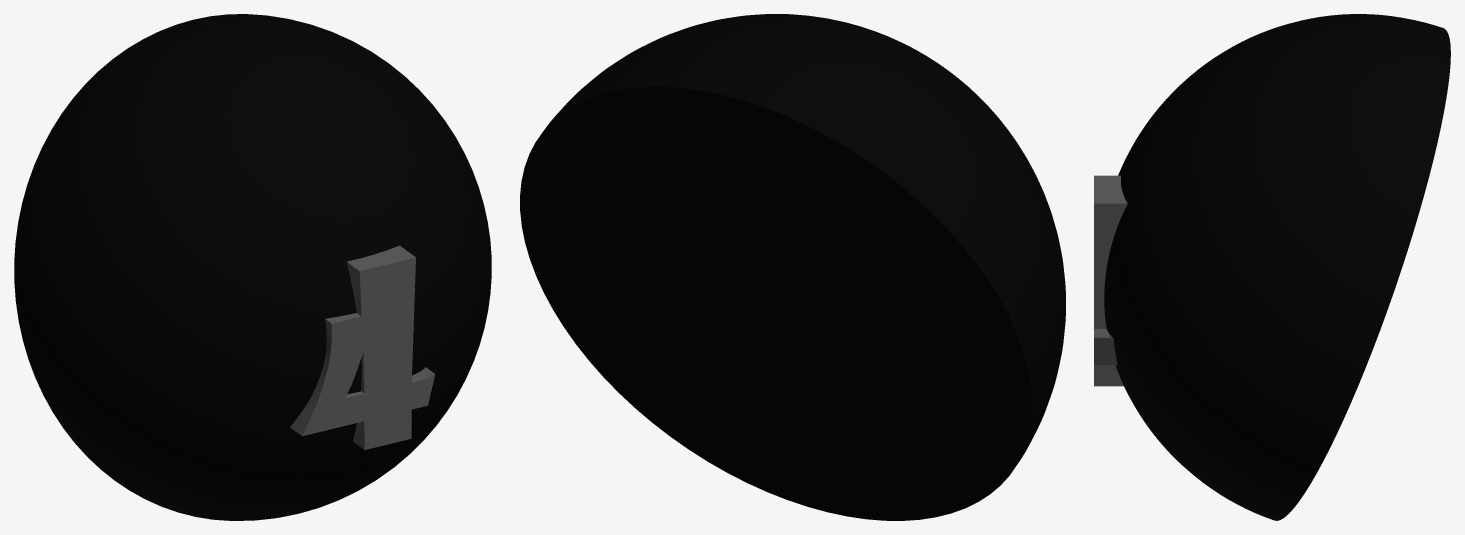
The model's file is button4.fbx.
3 renders of one model, left to right at view 1: azimuth 30°, elevation 25°; view 2: azimuth 150°, elevation 25°; view 3: azimuth 270°, elevation 25°, orthographic. The views are drawn at different scales.
Parts seen in each view (by area): view 1: root, node_id121; view 2: root; view 3: root, node_id121.
Boxes of the visible parts, x1,y1,x2,y2 form: root: (14, 14, 491, 520); node_id121: (290, 245, 435, 449); root: (520, 14, 1065, 520); root: (1104, 14, 1450, 520); node_id121: (1094, 175, 1127, 386).
Size of the model in its own units: 0.2 by 0.1936 by 0.1371.
Materials: 2 (1 with a texture image).
